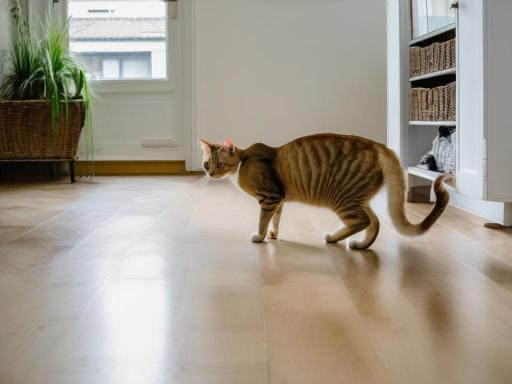cat_standing: (200, 134, 449, 248)
